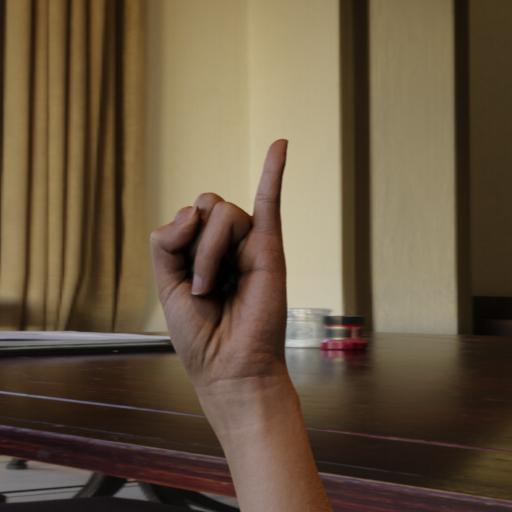I: (145, 135, 318, 391)
